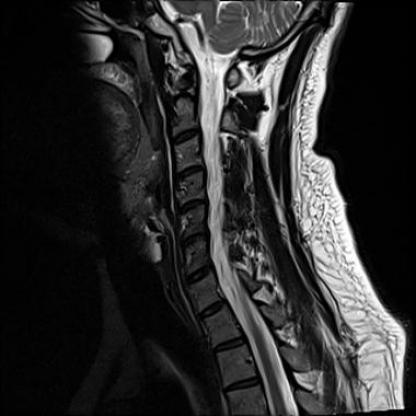Disc Bulgerotation: (183, 267, 214, 283), (174, 165, 206, 178)
